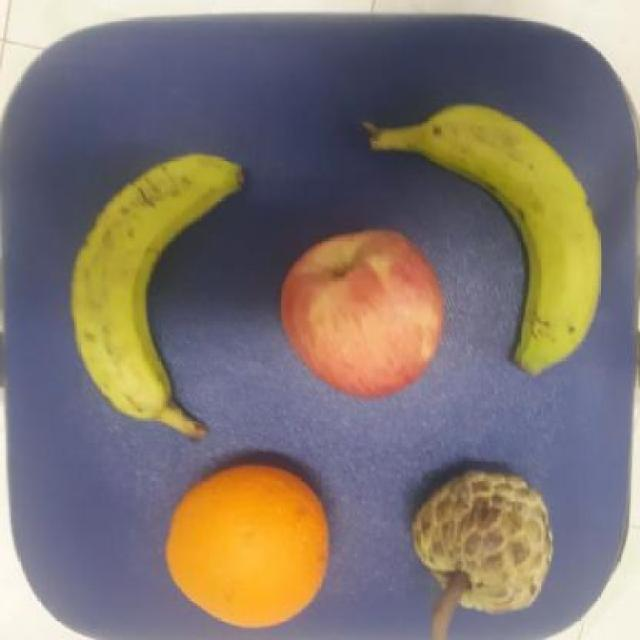apple: (275, 228, 444, 399)
banana: (363, 104, 605, 379), (68, 152, 247, 446)
oren: (165, 457, 332, 634)
sugar apple: (406, 464, 557, 618)
